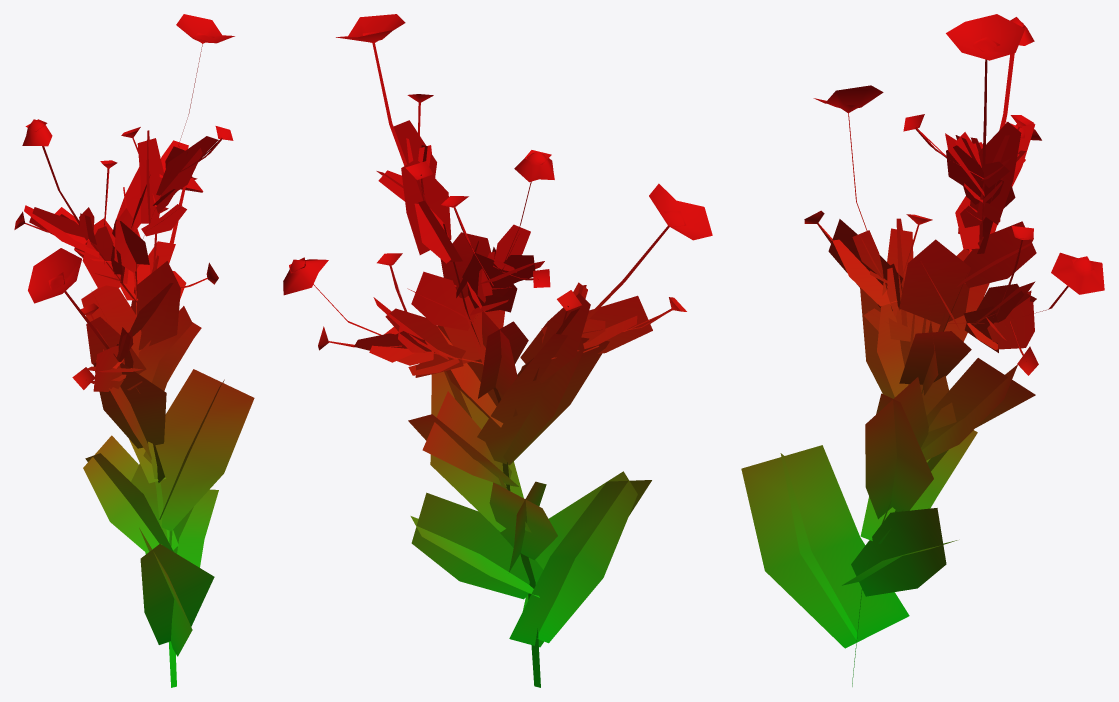
File: Chamomile_LOD3_Var5.fbx
3 views of the same model, side by side, from view 1: azimuth 30°, elevation 25°; view 2: azimuth 150°, elevation 25°; view 3: azimuth 270°, elevation 25° (orthographic). The views are drawn at different scales.
Visible parts, largest first — view 1: _pp3c_Var5_LOD3; view 2: _pp3c_Var5_LOD3; view 3: _pp3c_Var5_LOD3.
Part boxes in pixels (left/top/right/bottom): _pp3c_Var5_LOD3: left=14, top=14, right=254, bottom=687; _pp3c_Var5_LOD3: left=283, top=14, right=712, bottom=687; _pp3c_Var5_LOD3: left=741, top=14, right=1104, bottom=686.
Size of the model in its own units: 23.27 by 49.35 by 22.94.
